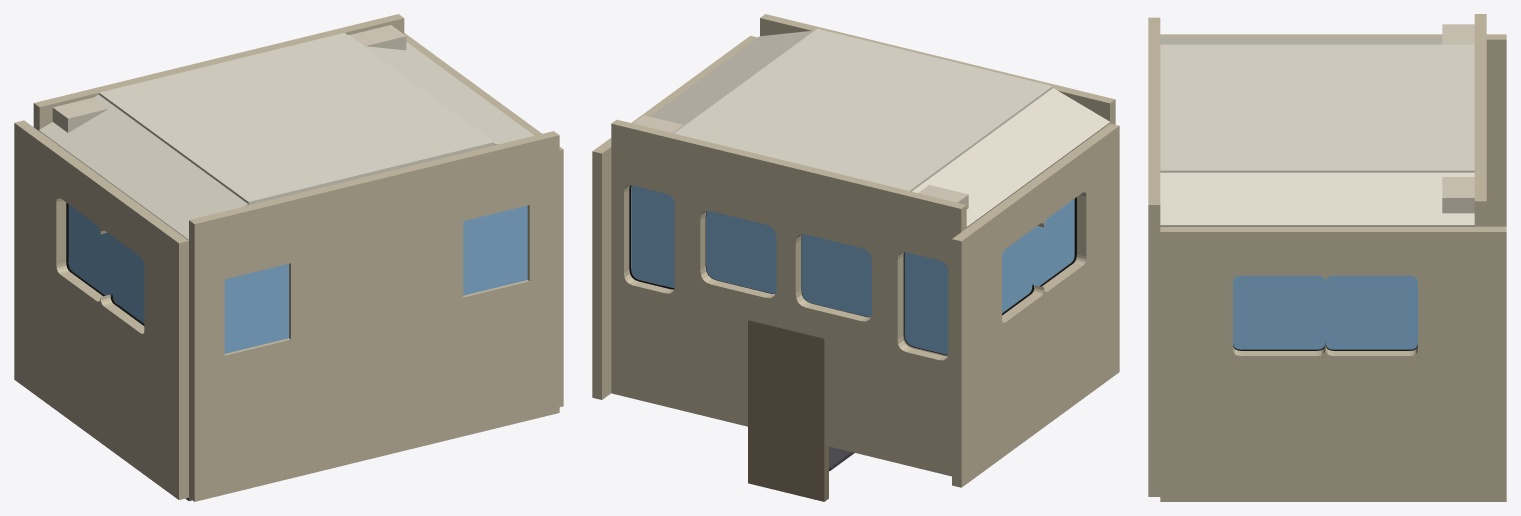
The model's file is gp38_lhf.glb.
3 renders of one model, left to right at view 1: azimuth 30°, elevation 25°; view 2: azimuth 150°, elevation 25°; view 3: azimuth 270°, elevation 25°, orthographic. The views are drawn at different scales.
Visible parts, largest first — view 1: back_c, wall_L, ceil_c, ceil_s-1, back_l, back_lo1, back_lo-1, back_r, back_win1, back_win-1, ceil_s1, back_hi1 (+8 smaller); view 2: wall_L, ceil_c, front_low_r, front_low_l, front_rake_r, front_rake_l, front_door, ceil_s-1, wall_R, glass1, glass-1, ceil_s1 (+7 smaller); view 3: wall_R, ceil_c, ceil_s1, sideglass_10, sideglass_11, wall_L, back_r, ceil_s-1, front_rake_r, front_rake_l, overhead_r, back_c (+3 smaller).
Part boxes in pixels (bbox=[...]): back_c: bbox=[285, 154, 463, 478]; wall_L: bbox=[14, 120, 188, 499]; ceil_c: bbox=[99, 33, 493, 205]; ceil_s-1: bbox=[39, 94, 248, 240]; back_l: bbox=[189, 213, 224, 501]; back_lo1: bbox=[463, 280, 529, 436]; back_lo-1: bbox=[224, 338, 290, 494]; back_r: bbox=[524, 131, 559, 419]; back_win1: bbox=[463, 205, 527, 295]; back_win-1: bbox=[224, 264, 288, 353]; ceil_s1: bbox=[348, 34, 533, 145]; back_hi1: bbox=[458, 138, 529, 220]; wall_L: bbox=[952, 123, 1119, 487]; ceil_c: bbox=[674, 28, 1052, 191]; front_low_r: bbox=[611, 259, 752, 426]; front_low_l: bbox=[824, 308, 951, 476]; front_rake_r: bbox=[611, 119, 790, 302]; front_rake_l: bbox=[786, 162, 966, 343]; front_door: bbox=[748, 320, 828, 501]; ceil_s-1: bbox=[912, 88, 1110, 227]; wall_R: bbox=[592, 35, 757, 399]; glass1: bbox=[706, 211, 776, 293]; glass-1: bbox=[801, 234, 871, 316]; ceil_s1: bbox=[650, 30, 813, 133]; wall_R: bbox=[1160, 226, 1506, 501]; ceil_c: bbox=[1160, 44, 1474, 172]; ceil_s1: bbox=[1160, 172, 1474, 226]; sideglass_10: bbox=[1325, 275, 1417, 349]; sideglass_11: bbox=[1233, 275, 1325, 349]; wall_L: bbox=[1160, 34, 1506, 226]; back_r: bbox=[1148, 189, 1160, 496]; ceil_s-1: bbox=[1160, 37, 1442, 44]; front_rake_r: bbox=[1474, 107, 1486, 226]; front_rake_l: bbox=[1474, 14, 1486, 107]; overhead_r: bbox=[1442, 177, 1474, 213]; back_c: bbox=[1148, 67, 1160, 155].
Bounding box in the file's own units: 2.95 × 2.49 × 2.26.
